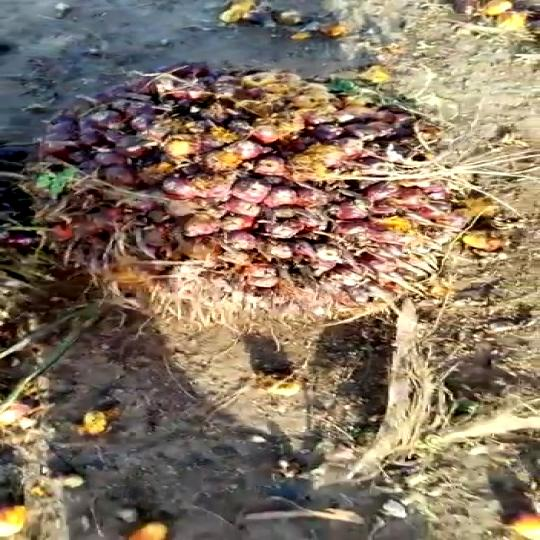masak: (0, 51, 481, 326)
